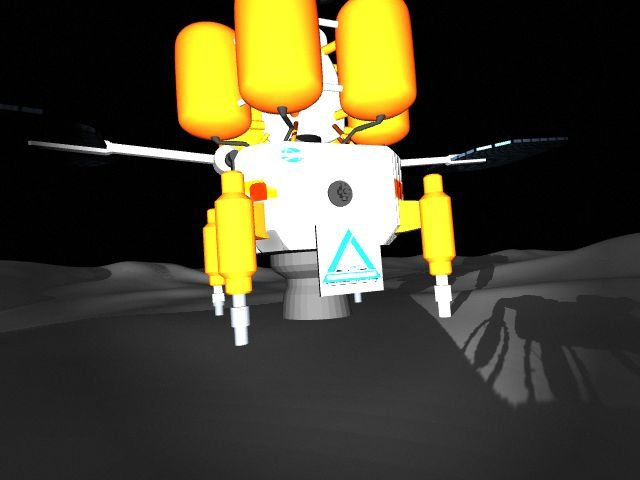basemarker: (321, 228, 382, 288)
